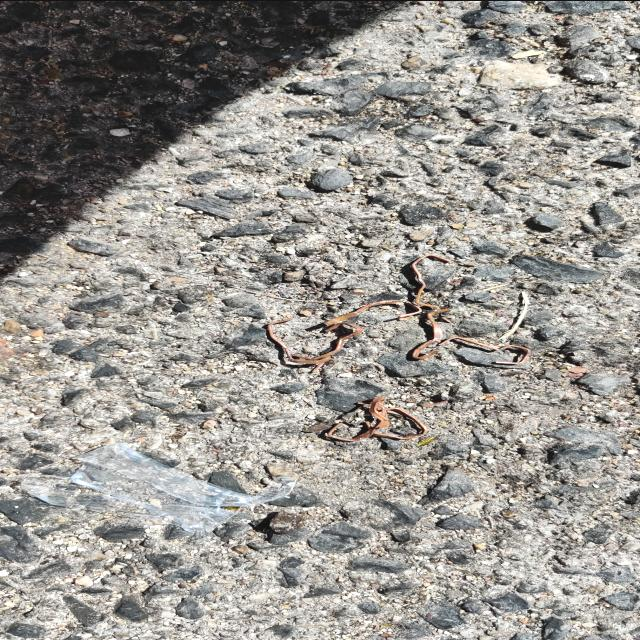Plastic film: (21, 442, 296, 531)
Scrap metal: (268, 318, 364, 372), (328, 396, 428, 441), (438, 335, 531, 363), (324, 299, 423, 325), (412, 253, 452, 307), (412, 308, 451, 359)
